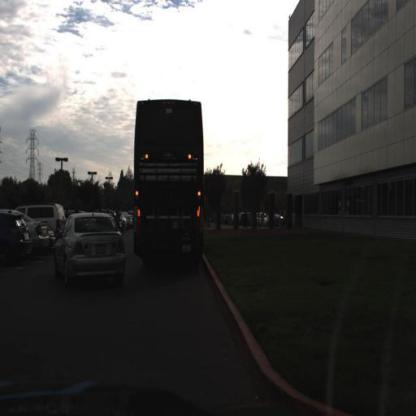car: (131, 97, 207, 278), (53, 206, 129, 288), (1, 207, 33, 267), (25, 201, 70, 238), (255, 210, 271, 228)
truck: (133, 96, 206, 260)
